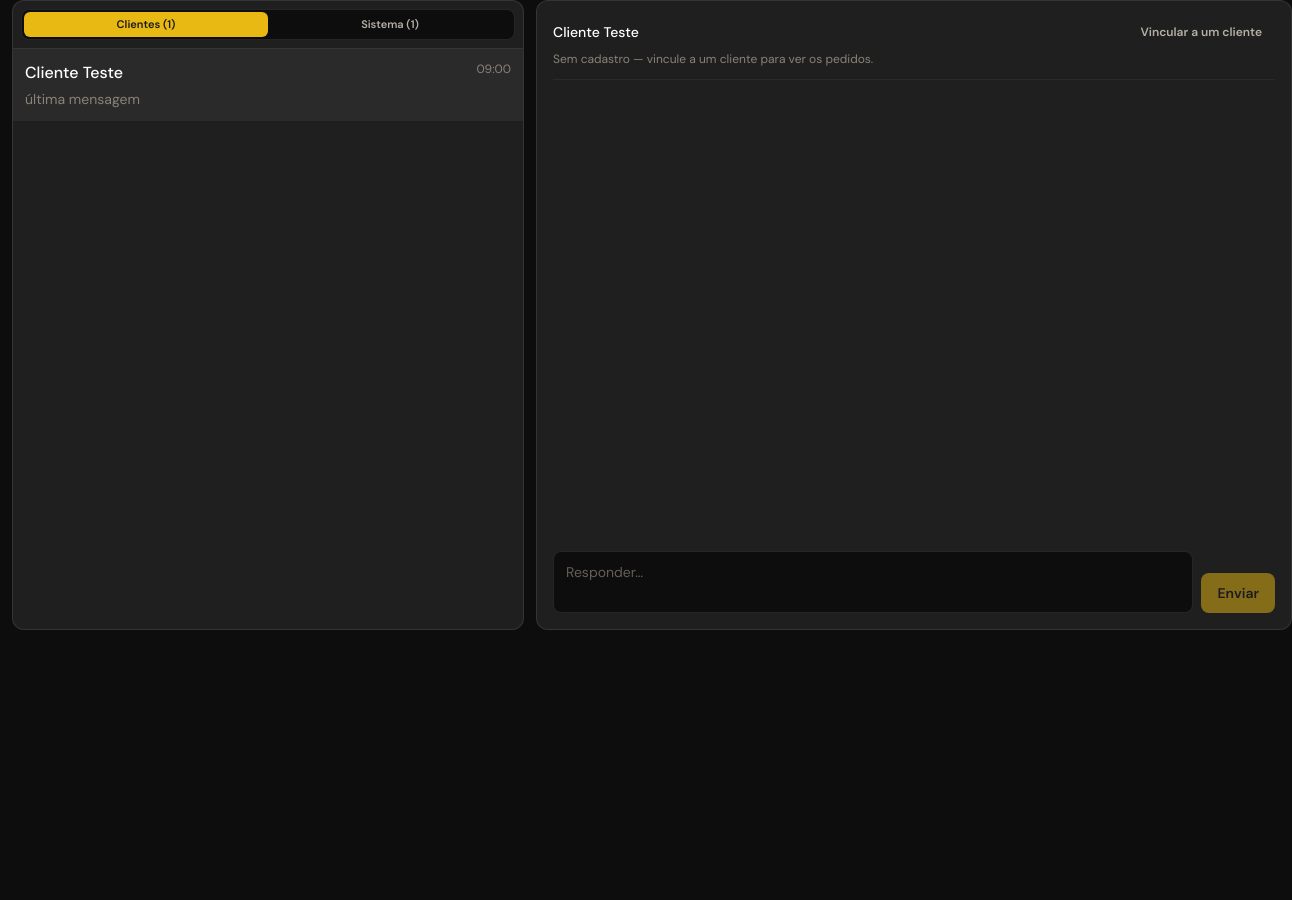
it: AtendimentoClient — seção Sistema/Avisos na lista › mantém as conversas de sistema fora da lista padrão de clientes, sob uma seção separada
This screenshot has width=1292, height=900.
Expected: the button "Cliente Teste 09:00 última mensagem" is shown, [13,48,523,120]
Expected: the button "5521888888888" is not shown
# alterna para a aba "Sistema"
Click the radio button labelled "Sistema (1)".
click(390, 24)  # box [268,12,512,36]
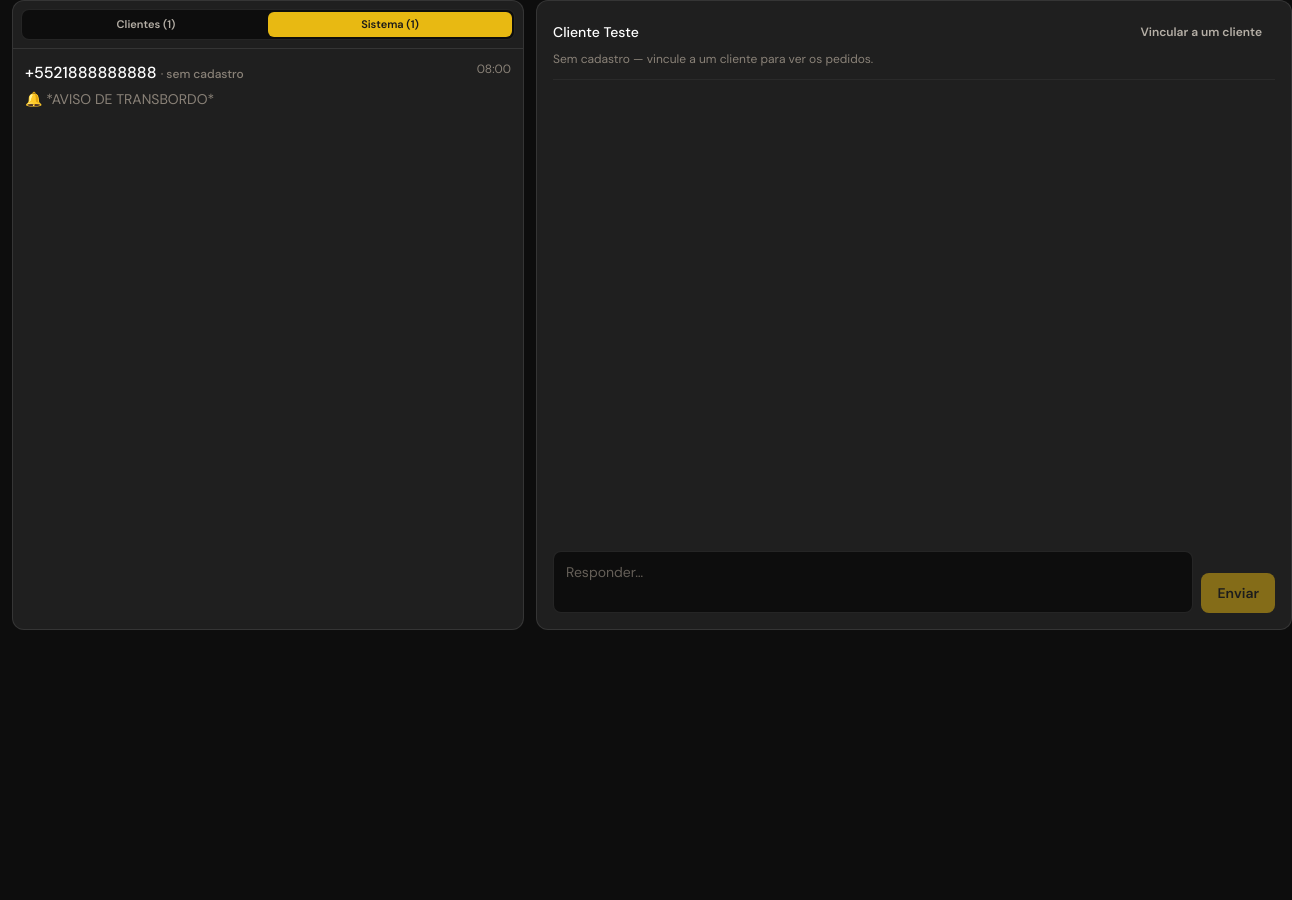
Expected: the button "+5521888888888 · sem cadastro 08:00 🔔 *AVISO DE TRANSBORDO*" is shown, [13,48,523,120]
